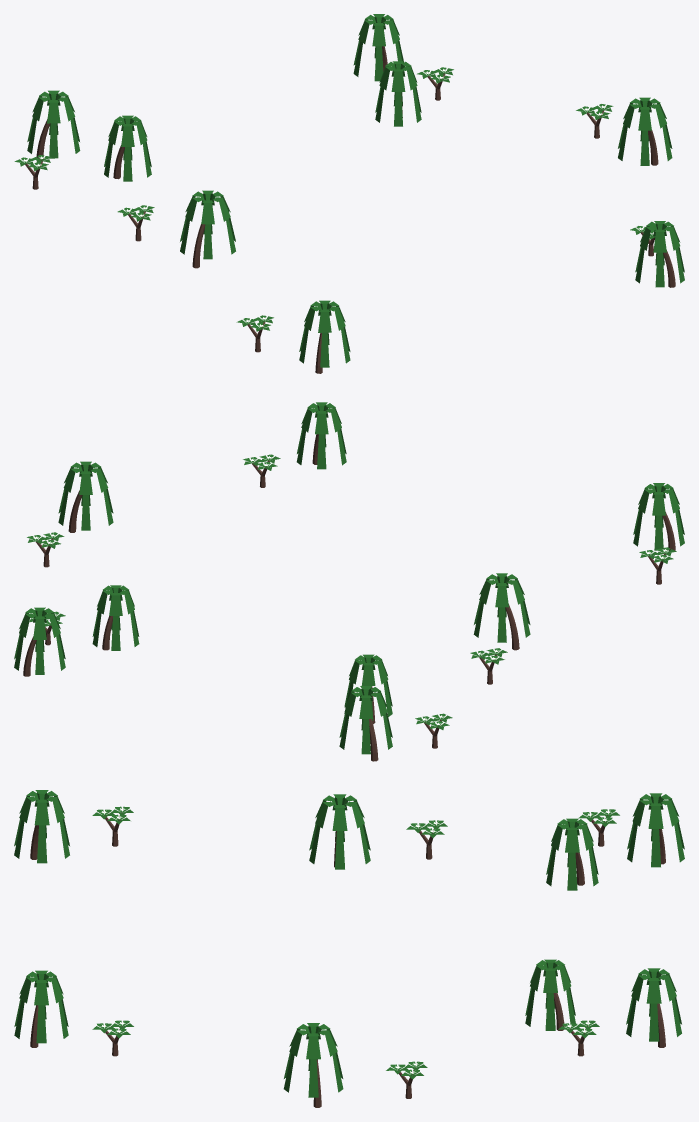
File: indochine_botanical_biome.glb
The picture shows the model from 3 angles, top to bottom: view 1: azimuth 30°, elevation 25°; view 2: azimuth 150°, elevation 25°; view 3: azimuth 270°, elevation 25°; orthographic projection. The views are drawn at different scales.
Visible parts, largest first — view 1: IndochineBotanicalBiome; view 2: IndochineBotanicalBiome; view 3: IndochineBotanicalBiome.
Boxes of the visible parts, <box> form: IndochineBotanicalBiome: <box>14,14,684,373</box>; IndochineBotanicalBiome: <box>14,402,684,761</box>; IndochineBotanicalBiome: <box>14,790,684,1107</box>.
Size of the model in its own units: 6.45 by 0.7918 by 6.63.
